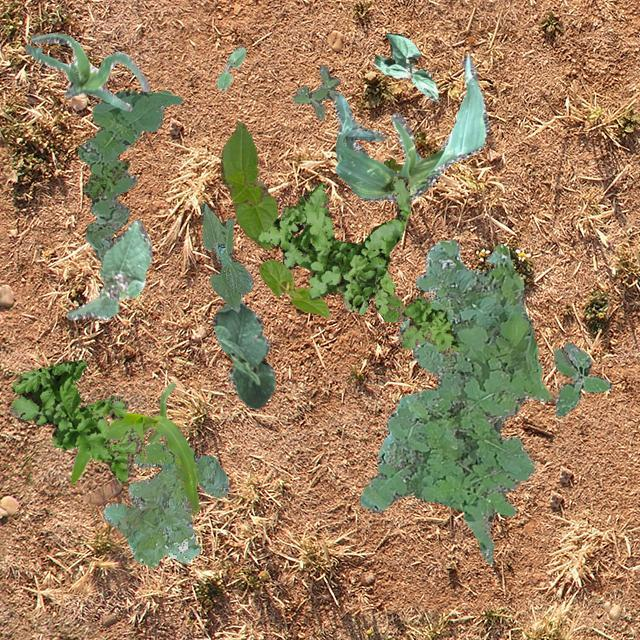crop: (333, 51, 488, 200), (70, 382, 198, 514), (23, 32, 148, 110), (65, 220, 152, 318), (220, 120, 276, 248), (212, 300, 274, 408), (200, 202, 252, 310), (372, 31, 438, 100), (258, 258, 328, 316), (217, 44, 244, 89)
weed: (358, 238, 552, 564), (278, 182, 458, 352), (255, 174, 410, 314), (76, 88, 182, 260), (8, 360, 142, 482), (102, 439, 228, 566), (552, 341, 610, 416), (292, 64, 338, 120), (82, 160, 128, 198), (382, 158, 402, 170)
